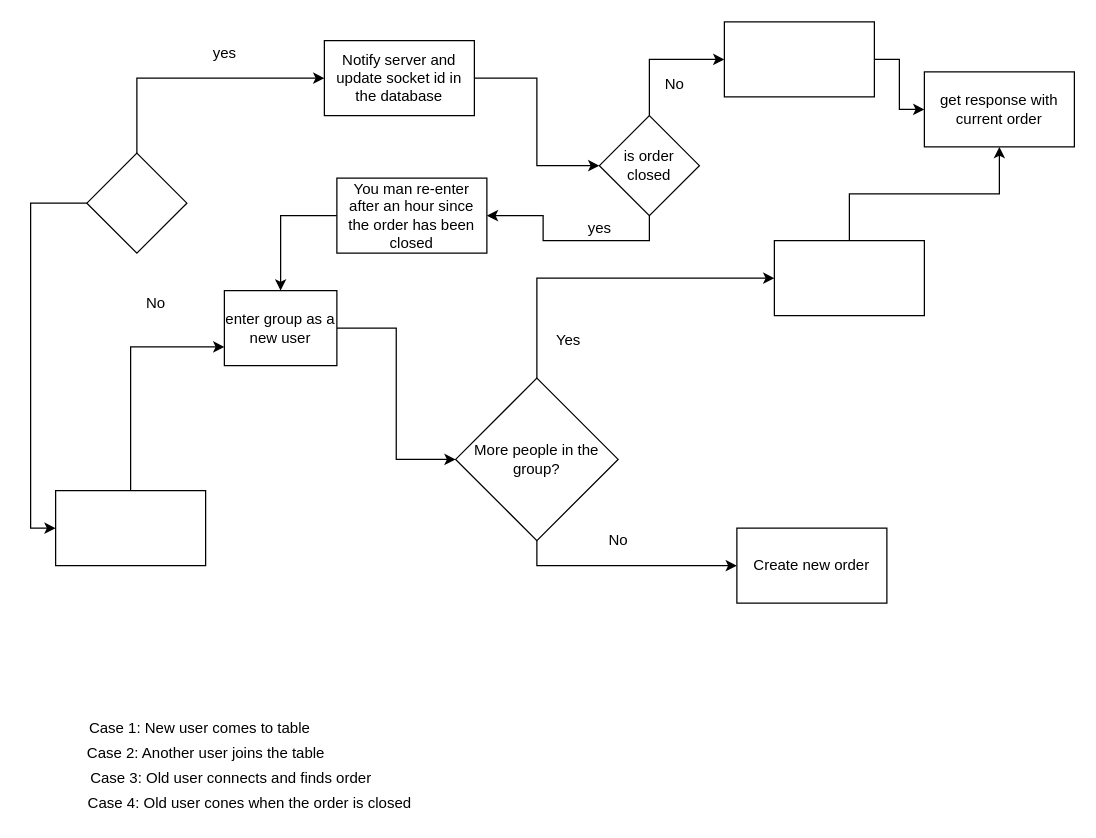
Some shapes in this 1096 by 838 pixel diagram are drawn without their labels. Each missing label, with the centre of its shape:
Authenticate through server and save socket id in the database: (x=130, y=527)
enter group as existing user: (x=798, y=59)
is auth token: (x=136, y=202)
Search for a person with one of the group socket ids and find it's order: (x=848, y=277)
